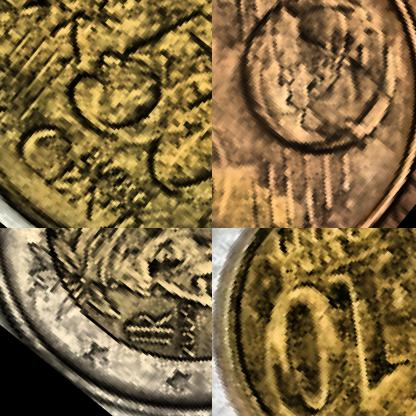coin: (0, 0, 211, 227), (212, 0, 415, 227), (0, 228, 211, 415), (212, 228, 415, 415)
